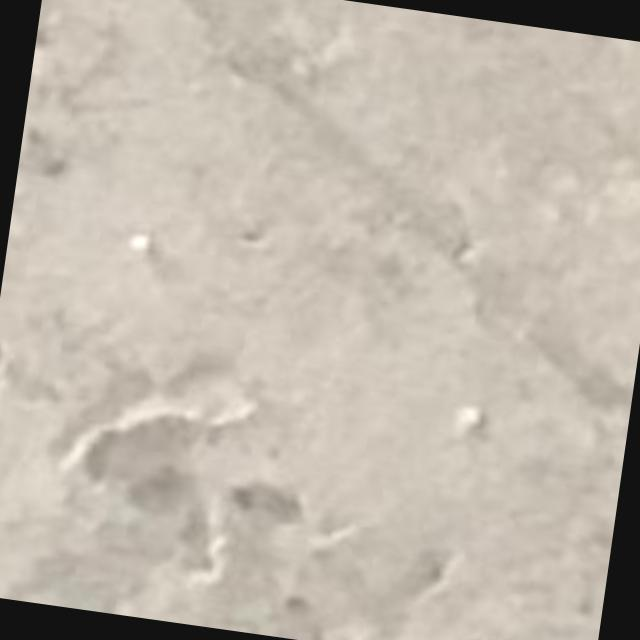peeling plaster: (63, 363, 303, 577)
